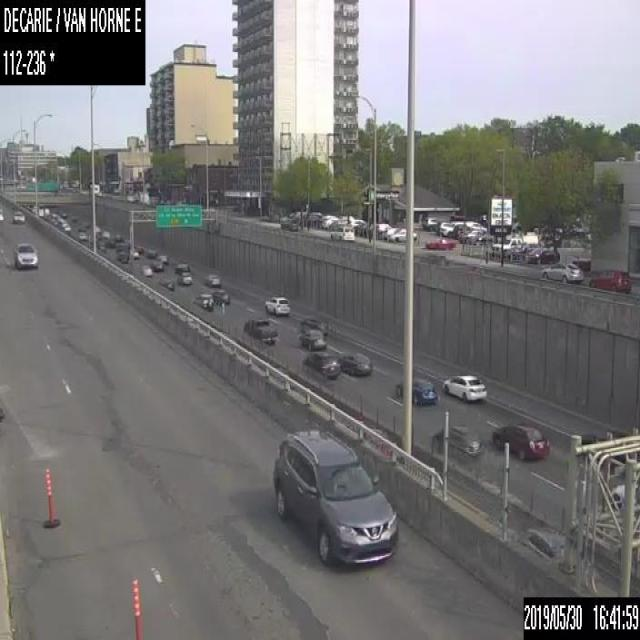construction: (130, 578, 144, 638), (44, 468, 58, 527)
vehicle: (271, 426, 399, 566), (493, 421, 549, 459), (432, 423, 484, 461), (442, 371, 486, 401), (396, 378, 437, 406), (588, 267, 631, 292), (538, 259, 584, 281), (302, 352, 340, 378), (242, 315, 277, 340), (338, 352, 371, 377), (13, 241, 37, 268), (491, 237, 526, 255), (298, 328, 326, 350), (526, 247, 559, 263), (264, 294, 290, 314), (300, 316, 326, 334), (389, 227, 416, 242), (426, 237, 455, 249), (330, 226, 354, 240), (441, 220, 463, 234), (212, 288, 229, 305), (194, 293, 212, 308), (279, 216, 298, 229), (422, 216, 439, 230), (158, 276, 174, 290), (203, 273, 219, 286), (177, 271, 191, 285), (174, 262, 188, 275), (436, 220, 449, 233), (12, 211, 24, 224), (457, 230, 470, 242), (466, 229, 482, 238), (141, 263, 152, 276), (150, 260, 163, 271), (156, 253, 167, 264), (78, 230, 89, 240), (130, 247, 138, 258)
